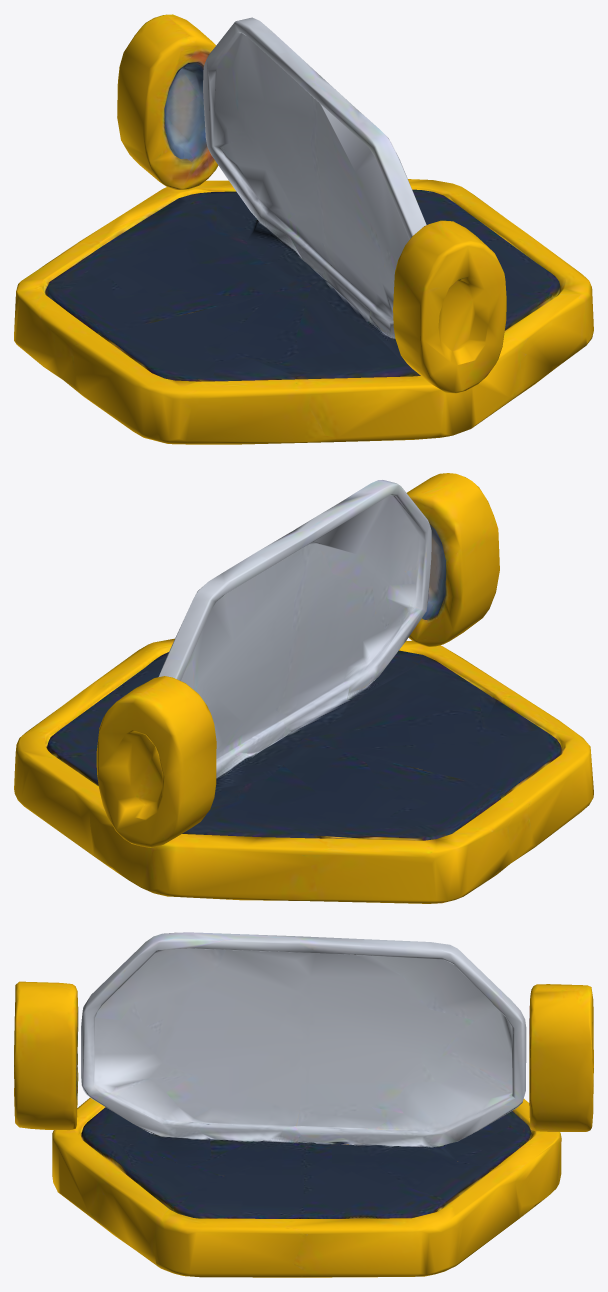
The model's file is mirror.glb.
3 views of the same model, one above another, from view 1: azimuth 30°, elevation 25°; view 2: azimuth 150°, elevation 25°; view 3: azimuth 270°, elevation 25° (orthographic). The views are drawn at different scales.
Parts seen in each view (by area): view 1: tripo_node_00cb9b8e-dc8d-4cff-9517-d8b24573e6e1; view 2: tripo_node_00cb9b8e-dc8d-4cff-9517-d8b24573e6e1; view 3: tripo_node_00cb9b8e-dc8d-4cff-9517-d8b24573e6e1.
Part boxes in pixels (x1=…): tripo_node_00cb9b8e-dc8d-4cff-9517-d8b24573e6e1: x1=14, y1=14, x2=593, y2=444; tripo_node_00cb9b8e-dc8d-4cff-9517-d8b24573e6e1: x1=14, y1=473, x2=593, y2=903; tripo_node_00cb9b8e-dc8d-4cff-9517-d8b24573e6e1: x1=14, y1=932, x2=593, y2=1277.
Bounding box in the file's own units: 0.8163 × 0.4549 × 0.9792.
Materials: 1 (1 with a texture image).
